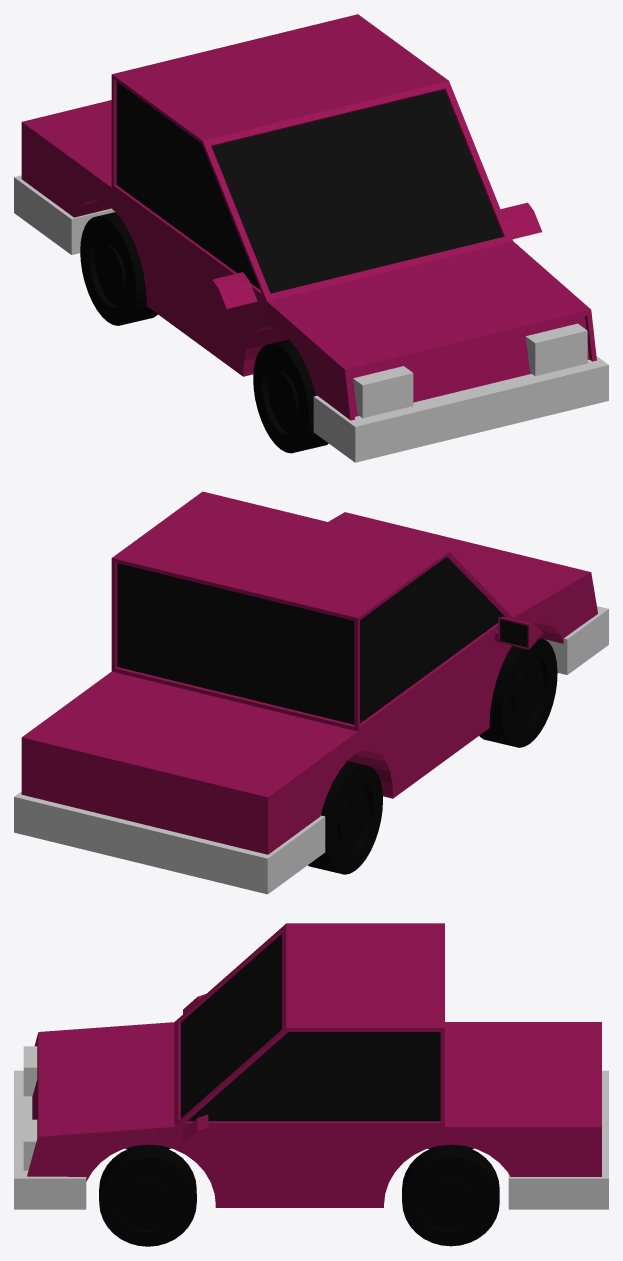
Rendered from pink-car.obj.
The picture shows the model from 3 angles, top to bottom: view 1: azimuth 30°, elevation 25°; view 2: azimuth 150°, elevation 25°; view 3: azimuth 270°, elevation 25°; orthographic projection. The views are drawn at different scales.
Visible parts, largest first — view 1: car, wheel; view 2: car, wheel; view 3: car, wheel.
Part boxes in pixels (x1,y1,x2,y2): car: (14, 14, 608, 462); wheel: (80, 212, 328, 453); car: (14, 491, 608, 894); wheel: (308, 638, 557, 874); car: (14, 923, 608, 1209); wheel: (99, 1144, 499, 1246).
Size of what is drawn, in the model's own units: 2.56 by 1.94 by 4.8.
